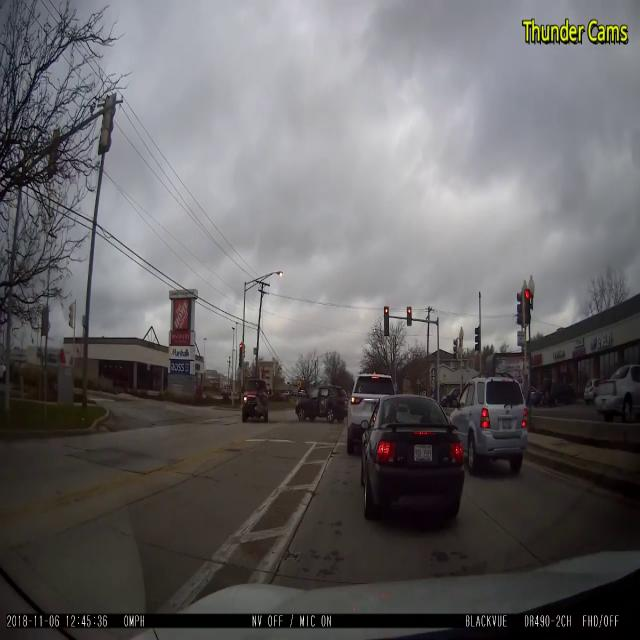accident: (228, 359, 344, 443), (288, 371, 346, 427), (237, 370, 275, 432)
